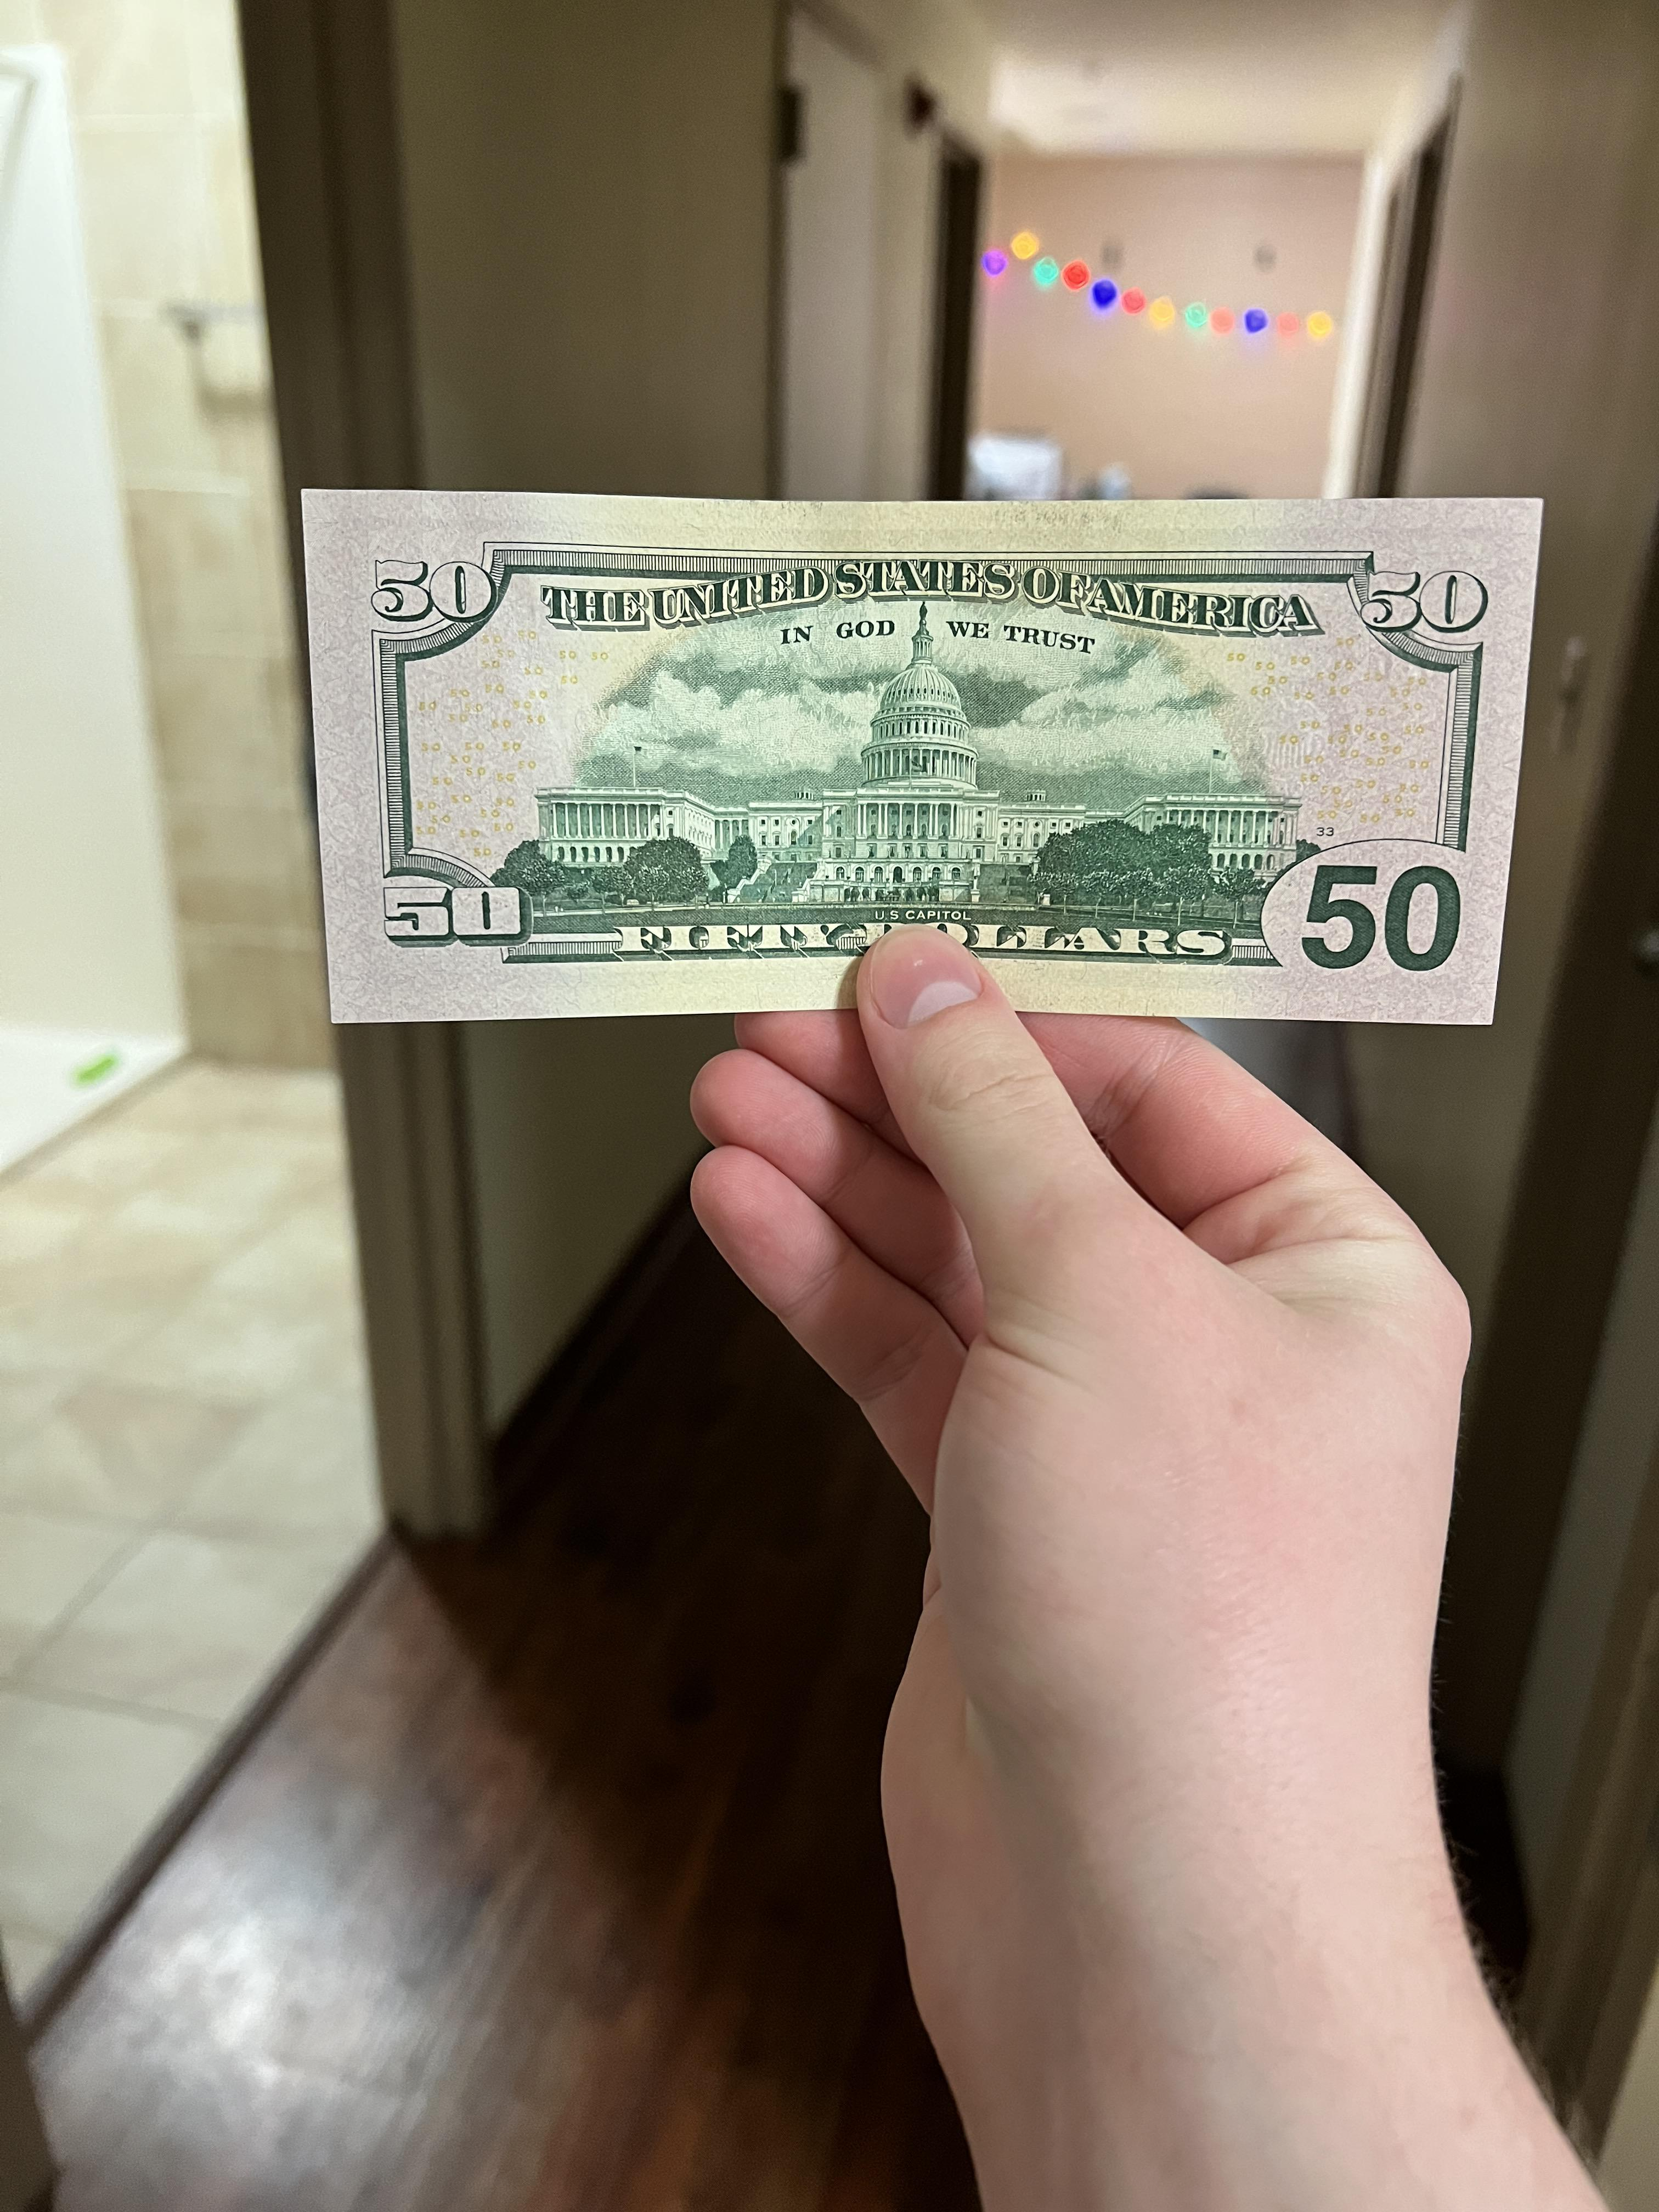FiftyBill: (282, 477, 1514, 1040)
